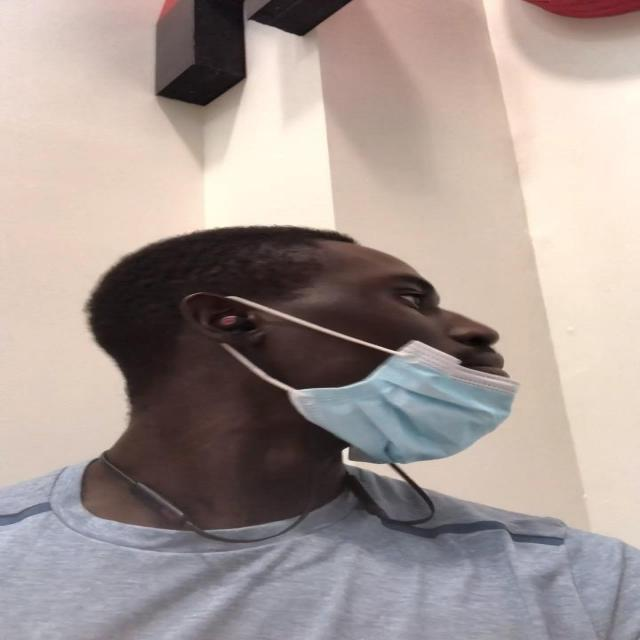face: (226, 248, 519, 462)
